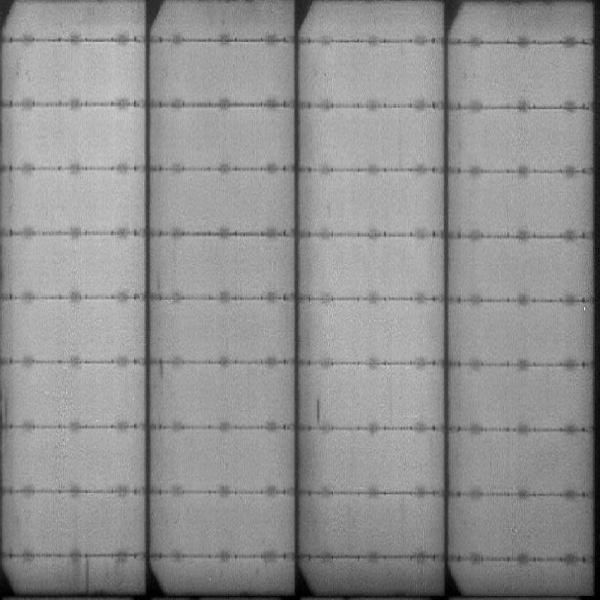scratch: (81, 552, 97, 595), (313, 399, 327, 428)
